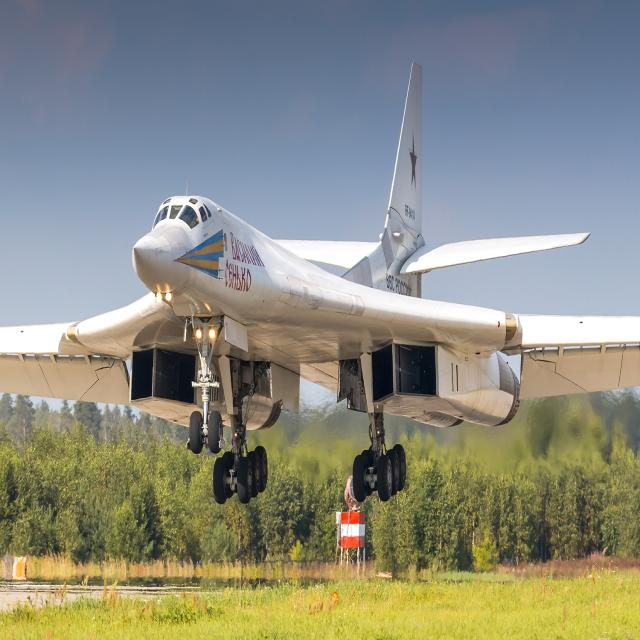MIL_Plane: (0, 62, 640, 504)
